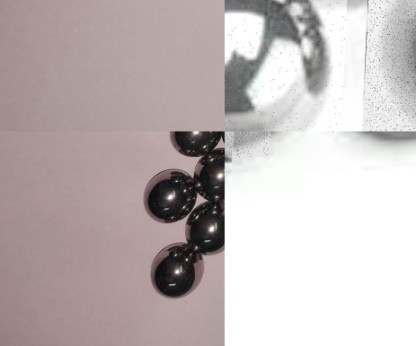ironball: (224, 0, 348, 131), (362, 0, 415, 131), (146, 239, 206, 302), (143, 166, 195, 226), (183, 200, 224, 253), (193, 142, 223, 203), (169, 128, 219, 158)
